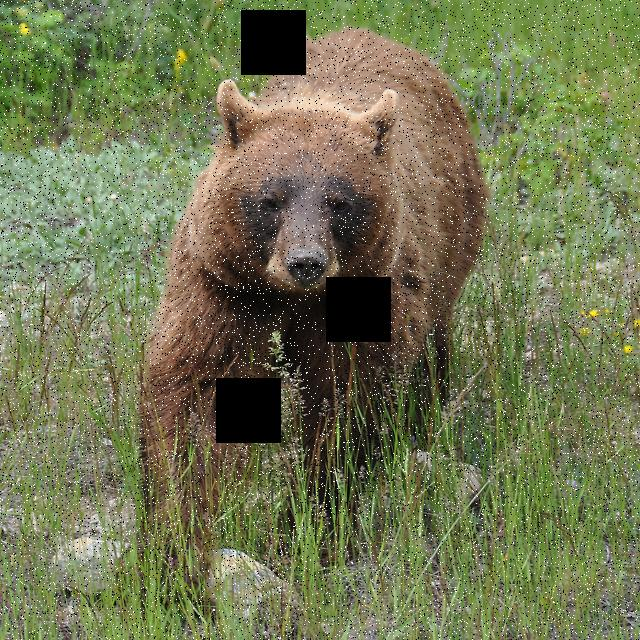Bear: (130, 18, 487, 583)
